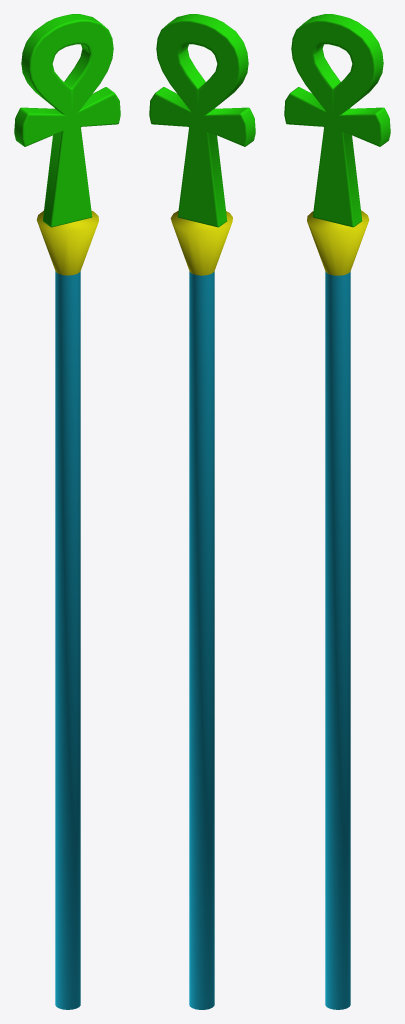
File: Staff of Light.fbx
3 views of the same model, side by side, from view 1: azimuth 30°, elevation 25°; view 2: azimuth 150°, elevation 25°; view 3: azimuth 330°, elevation 25° (orthographic).
Parts seen in each view (by area): view 1: Staff of Light; view 2: Staff of Light; view 3: Staff of Light.
Boxes of the visible parts, left/top/right/bottom form: Staff of Light: left=14, top=14, right=120, bottom=1009; Staff of Light: left=149, top=14, right=255, bottom=1009; Staff of Light: left=284, top=14, right=390, bottom=1009.
Size of the model in its own units: 26.09 by 250 by 14.29.
